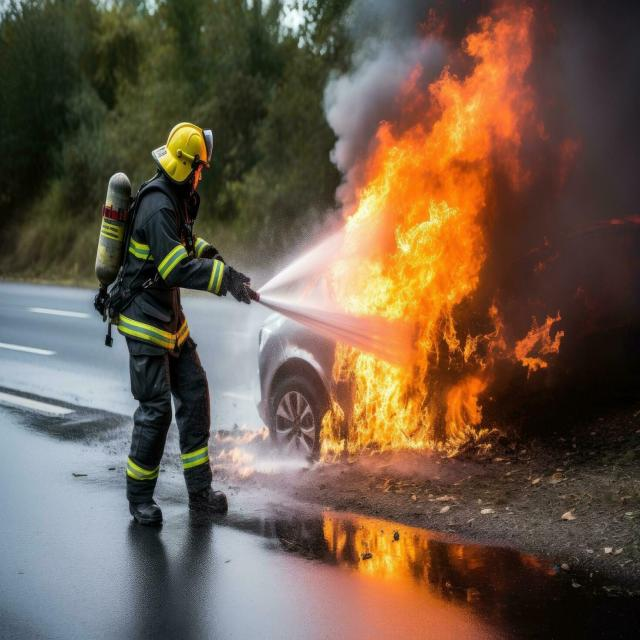fire: (318, 285, 608, 464), (346, 120, 590, 286), (394, 0, 583, 128), (322, 509, 434, 571), (207, 425, 269, 479)
